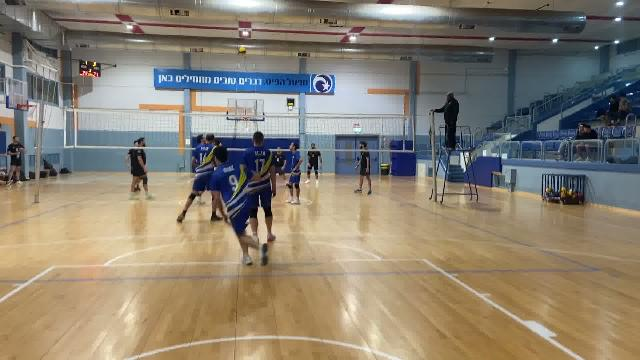ball: (237, 45, 247, 58)
